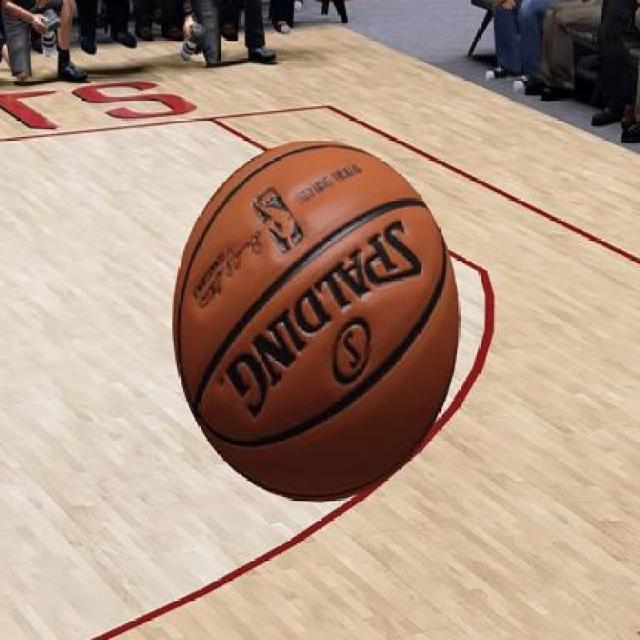basketball: (172, 139, 462, 501)
